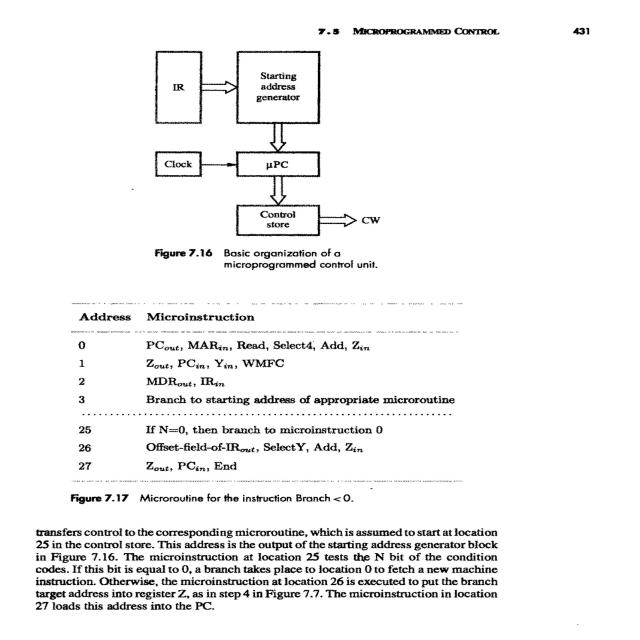diagram: (65, 37, 427, 306)
